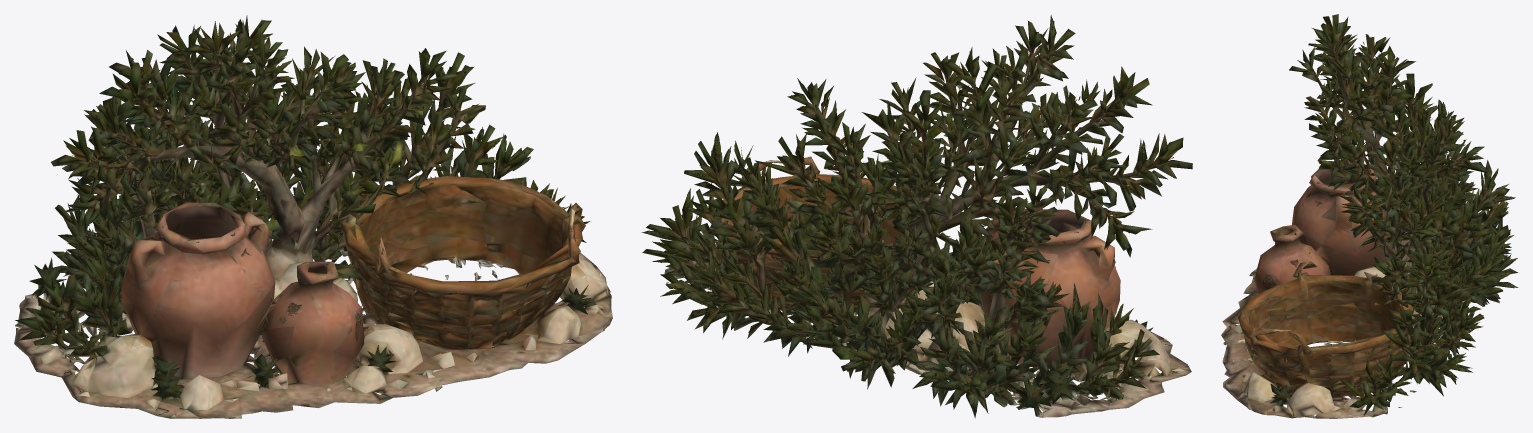
The model's file is olive-basket-cluster-b.glb.
3 views of the same model, side by side, from view 1: azimuth 30°, elevation 25°; view 2: azimuth 150°, elevation 25°; view 3: azimuth 270°, elevation 25° (orthographic). The views are drawn at different scales.
Visible parts, largest first — view 1: geometry_0; view 2: geometry_0; view 3: geometry_0.
Part boxes in pixels (x1=…): geometry_0: x1=14, y1=15, x2=612, y2=418; geometry_0: x1=641, y1=15, x2=1192, y2=418; geometry_0: x1=1221, y1=14, x2=1518, y2=418.
Size of the model in its own units: 1.88 by 1.15 by 1.17.
Materials: 1 (1 with a texture image).
